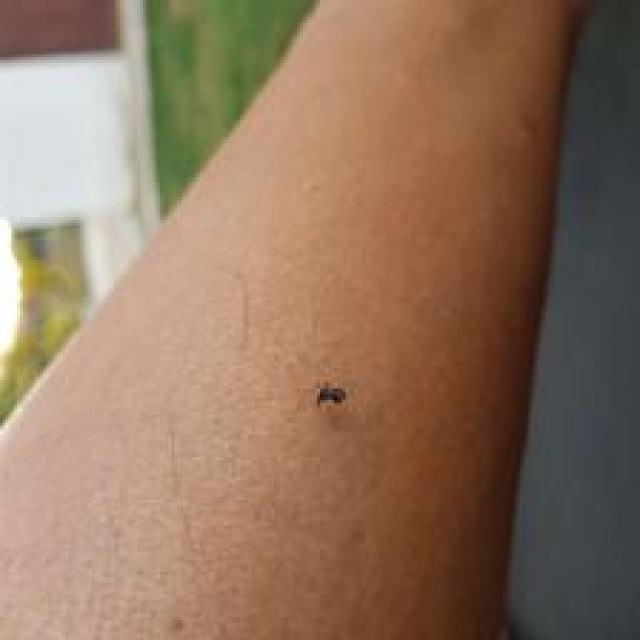Aedes albopictus: (313, 380, 347, 411)
